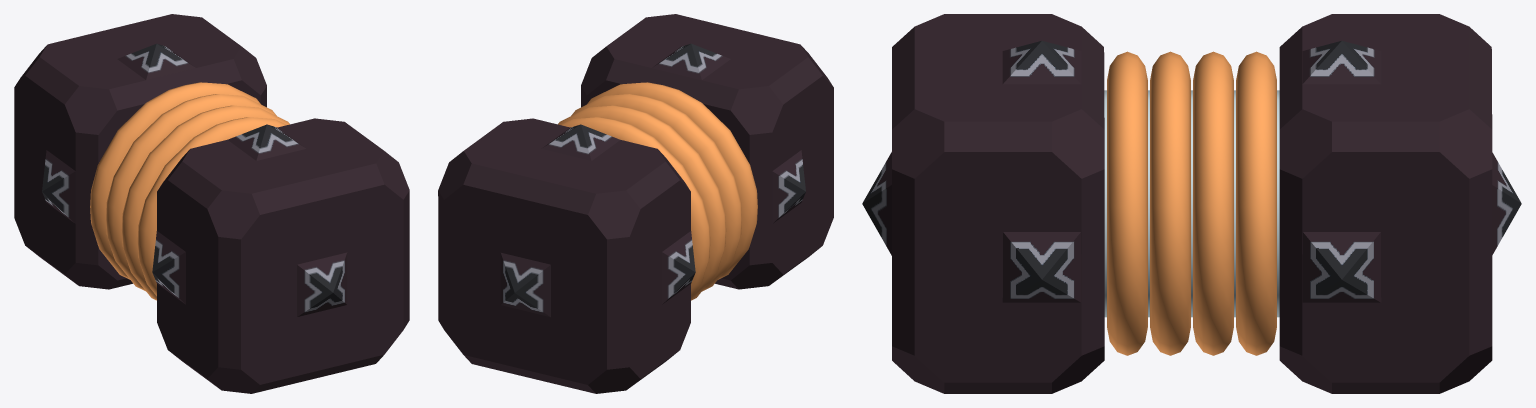
The model's file is YK_Charger.obj.
3 views of the same model, side by side, from view 1: azimuth 30°, elevation 25°; view 2: azimuth 150°, elevation 25°; view 3: azimuth 270°, elevation 25° (orthographic). The views are drawn at different scales.
Parts seen in each view (by area): view 1: base_BF_Block_111.001, coil_NurbsCircle.006; view 2: base_BF_Block_111.001, coil_NurbsCircle.006; view 3: base_BF_Block_111.001, coil_NurbsCircle.006, Cylinder_Cylinder.002.
Part boxes in pixels (left/top/right/bottom): base_BF_Block_111.001: left=14, top=14, right=409, bottom=393; coil_NurbsCircle.006: left=90, top=82, right=289, bottom=300; base_BF_Block_111.001: left=438, top=14, right=833, bottom=393; coil_NurbsCircle.006: left=558, top=82, right=757, bottom=300; base_BF_Block_111.001: left=862, top=14, right=1521, bottom=393; coil_NurbsCircle.006: left=1107, top=51, right=1276, bottom=355; Cylinder_Cylinder.002: left=1104, top=90, right=1279, bottom=317.
Bounding box in the file's own units: 1.2 × 1.2 × 2.2.
